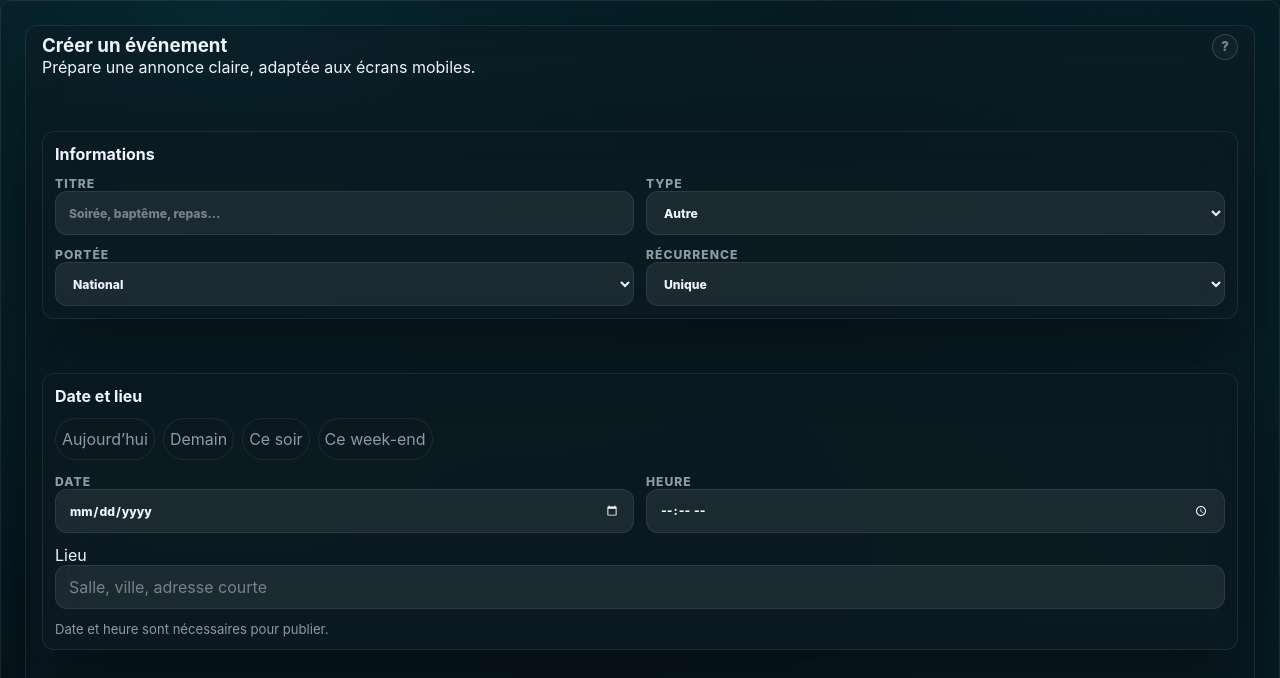
Scenario: UpcomingComposer › filters cooptage pickers by the selected regional role
The width and height of the screenshot is (1280, 678).
Select "Cooptage / Intronisation" in the dropdown labelled "Type": (936, 213) 646,191 -> 1225,235
(page scrolled)
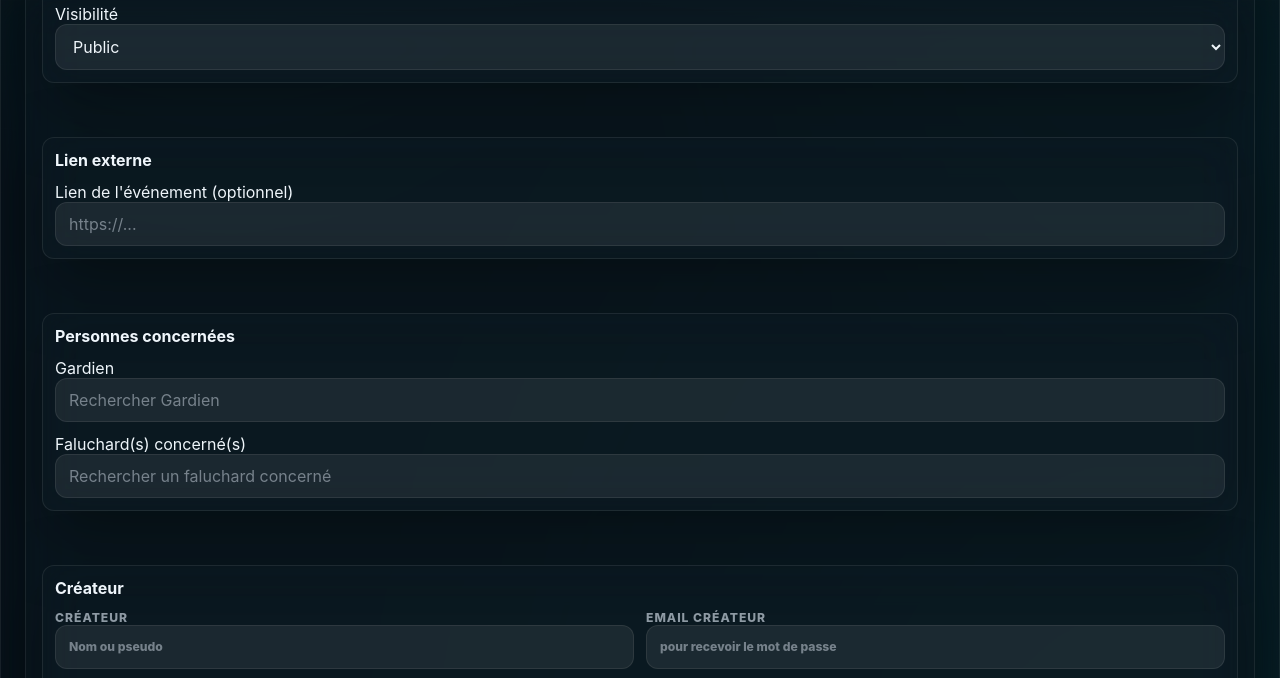
In the search field labelled "Gardien": (640, 400) 55,378 -> 1225,422, type "Alice"
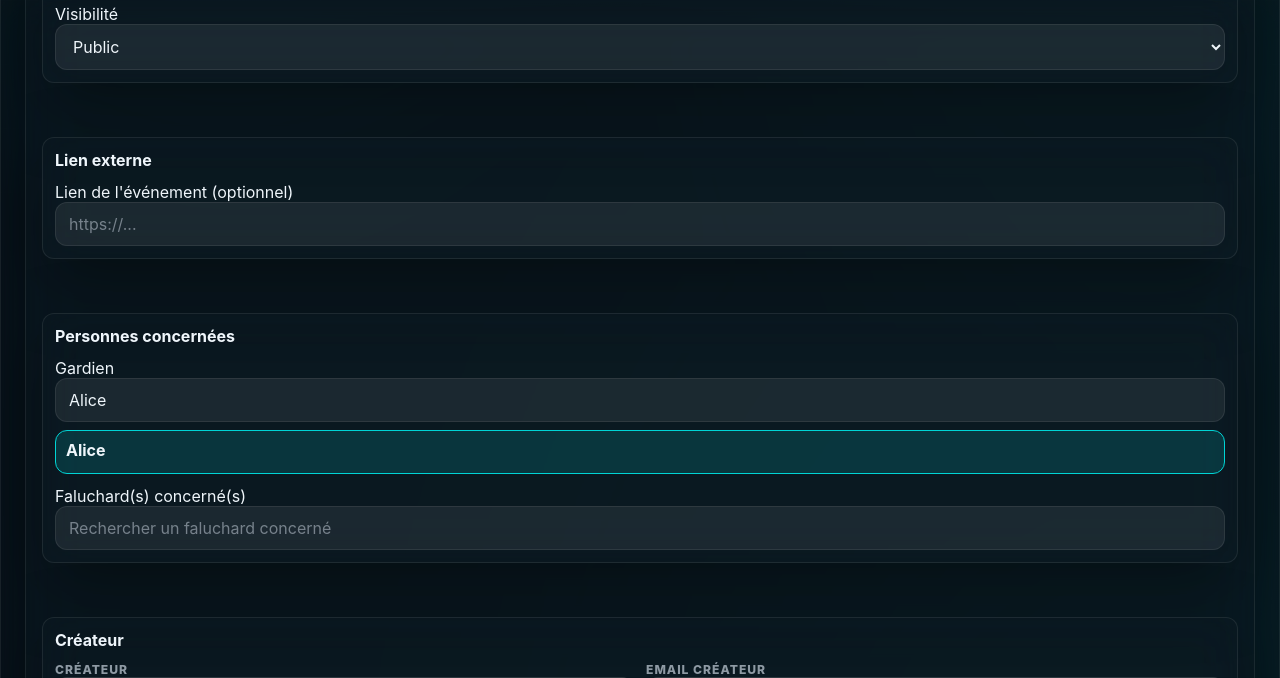
Expected: the text "Alice" is shown, 66,440 -> 106,460
In the search field labelled "Faluchard(s) concerné(s)": (640, 528) 55,506 -> 1225,550, type "Basile"
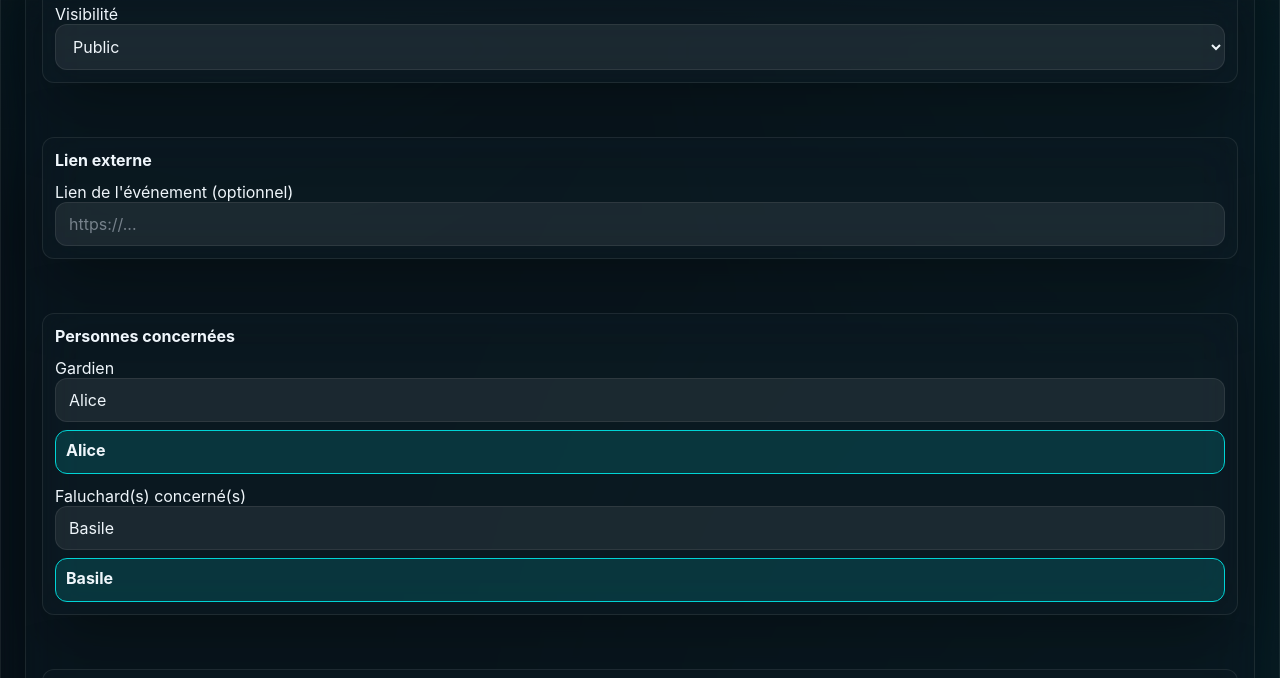
Expected: the text "Basile" is shown, 66,568 -> 113,588
